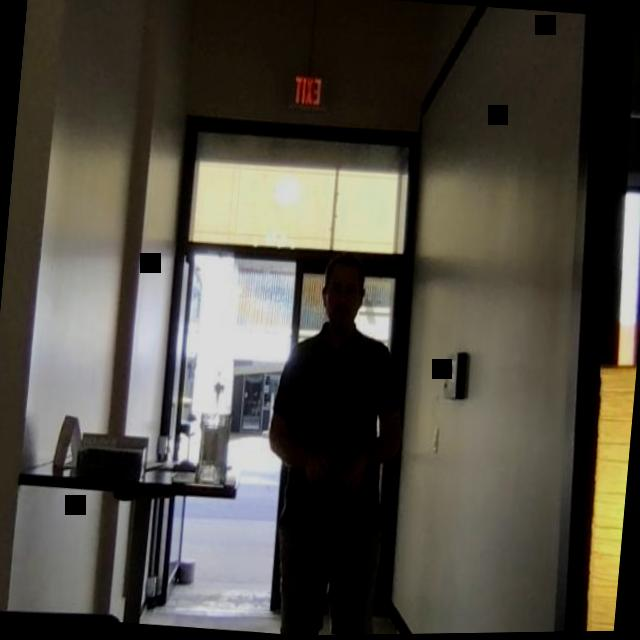NO-Mask: (318, 251, 364, 337)
